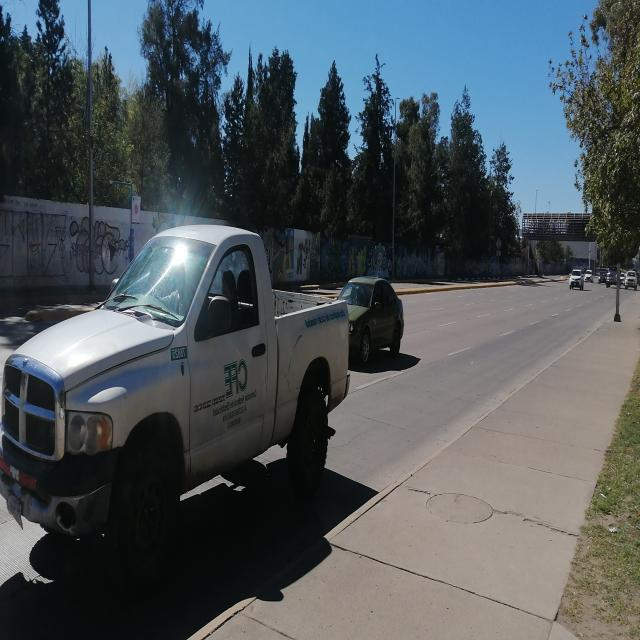Auto: (1, 222, 348, 600), (323, 275, 404, 370)
